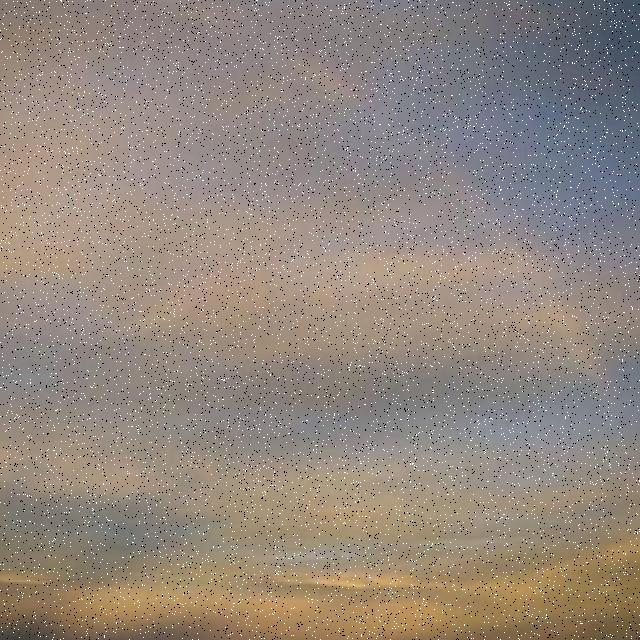As: (1, 18, 640, 600)
